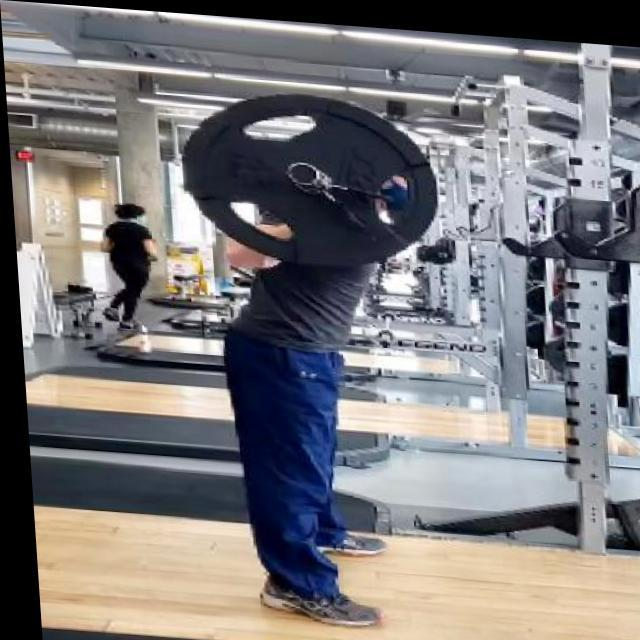barbell: (168, 78, 445, 277)
